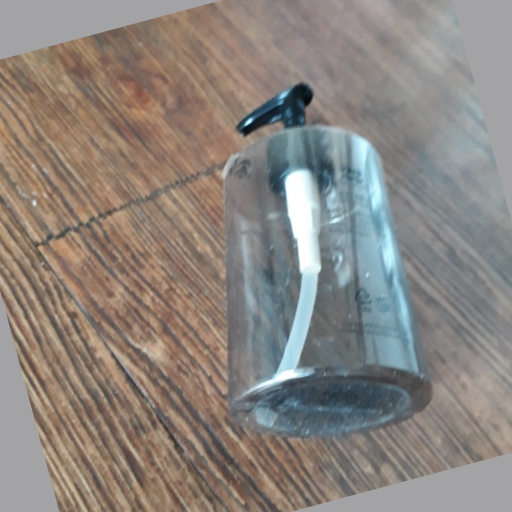Plastic_3: (218, 81, 433, 434)
